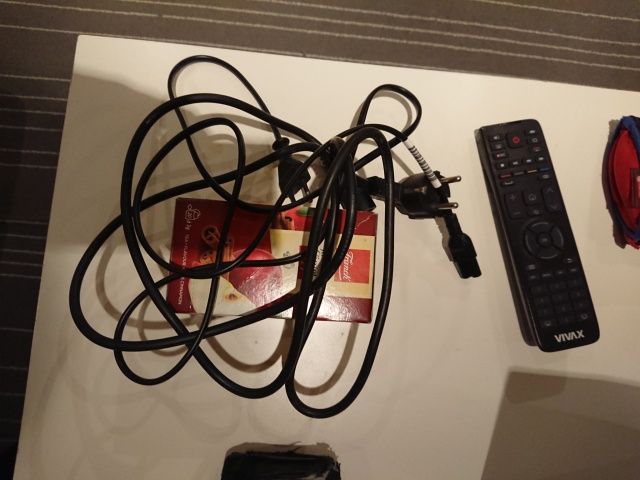Franck Apple Cinnamon Tea 60g: (163, 195, 381, 326)
